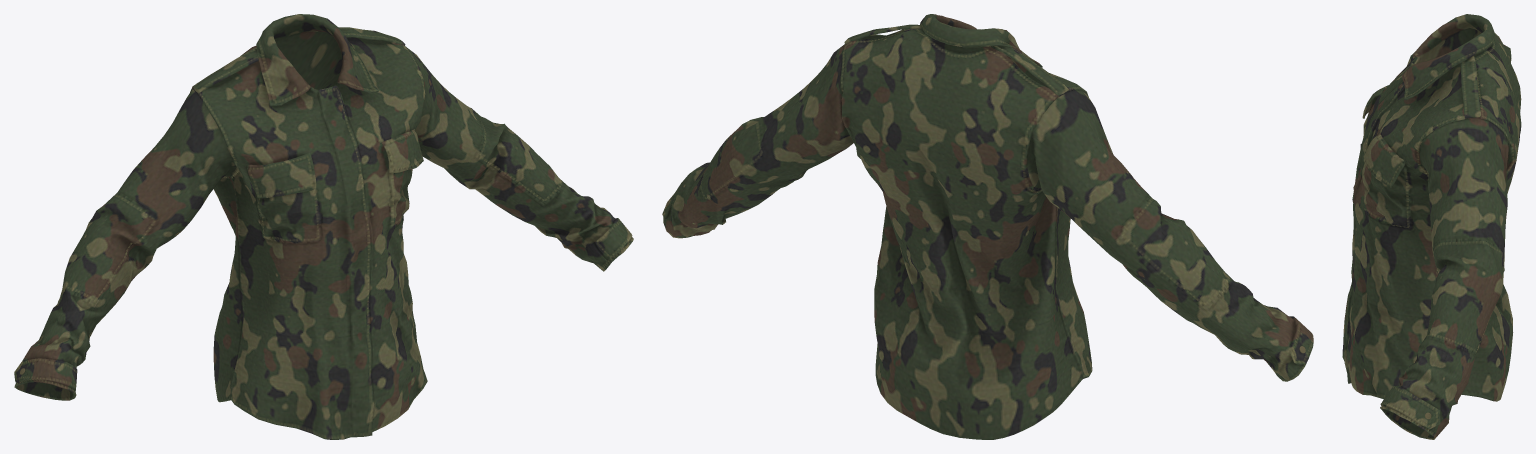
File: army-jacket2.glb
3 views of the same model, side by side, from view 1: azimuth 30°, elevation 25°; view 2: azimuth 150°, elevation 25°; view 3: azimuth 270°, elevation 25° (orthographic). The views are drawn at different scales.
Visible parts, largest first — view 1: uploads_files_4526481_Army_Shirt01; view 2: uploads_files_4526481_Army_Shirt01; view 3: uploads_files_4526481_Army_Shirt01.
Boxes of the visible parts, x1,y1,x2,y2 form: uploads_files_4526481_Army_Shirt01: [14, 14, 633, 439]; uploads_files_4526481_Army_Shirt01: [662, 14, 1313, 439]; uploads_files_4526481_Army_Shirt01: [1342, 14, 1521, 439].
Size of the model in its own units: 5.08 by 3.05 by 1.35.
Materials: 1 (1 with a texture image).
